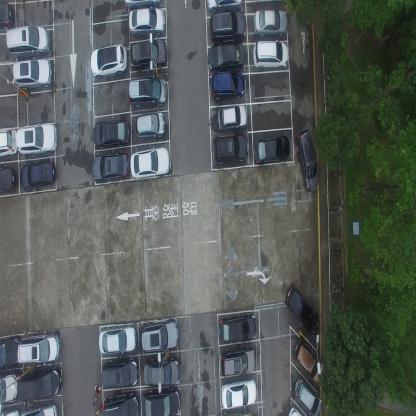car: (284, 282, 320, 336), (295, 128, 320, 192), (292, 335, 324, 384), (15, 120, 58, 156), (130, 144, 170, 182), (90, 42, 127, 82), (17, 366, 60, 400), (17, 331, 60, 363), (12, 58, 52, 92), (5, 26, 50, 56), (210, 9, 246, 45), (252, 133, 290, 167), (130, 38, 168, 72), (211, 133, 248, 167), (92, 117, 130, 150), (141, 318, 179, 350), (142, 354, 180, 386), (218, 312, 256, 344), (128, 78, 168, 108), (128, 6, 165, 38), (252, 39, 290, 70), (20, 158, 56, 190), (100, 323, 137, 354), (142, 386, 180, 416), (207, 40, 245, 70), (295, 375, 323, 415), (92, 151, 128, 182), (222, 379, 258, 408), (210, 71, 246, 100), (101, 358, 139, 385), (219, 347, 256, 374), (101, 389, 139, 415), (254, 9, 288, 36), (135, 112, 165, 141), (218, 103, 247, 132), (0, 335, 19, 368), (20, 400, 57, 416), (0, 371, 17, 404), (0, 123, 16, 158), (205, 0, 242, 14), (0, 166, 17, 195), (0, 0, 13, 30)
